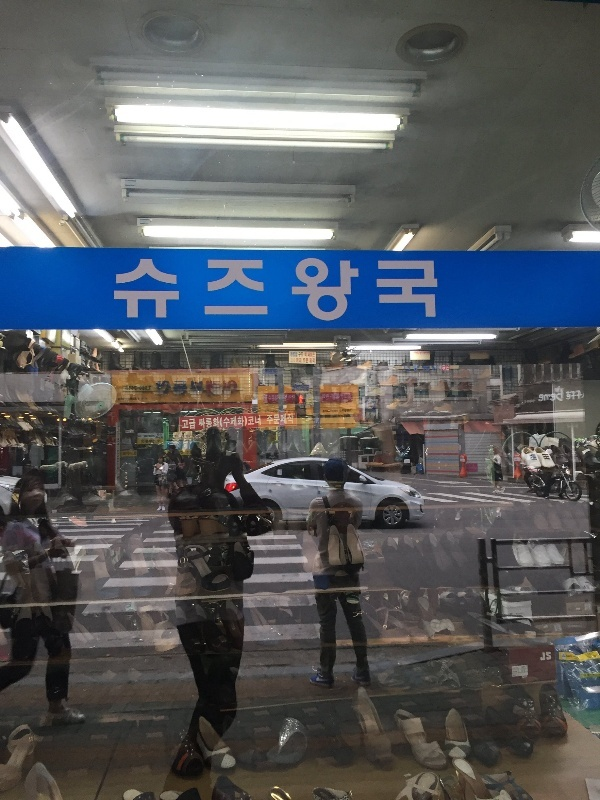text: (113, 255, 128, 325), (129, 255, 144, 325), (145, 255, 160, 325), (161, 255, 176, 325), (177, 255, 192, 325), (193, 255, 208, 325), (209, 255, 224, 325), (225, 255, 240, 325), (241, 255, 256, 325), (257, 255, 272, 325), (273, 255, 288, 325), (289, 255, 304, 325), (305, 255, 320, 325), (321, 255, 336, 325), (337, 255, 352, 325), (353, 255, 368, 325), (369, 255, 384, 325), (385, 255, 400, 325), (401, 255, 416, 325), (417, 255, 432, 325), (433, 255, 442, 325), (161, 379, 176, 399), (177, 379, 192, 399), (193, 379, 208, 399), (209, 379, 224, 399), (225, 379, 238, 399), (369, 398, 379, 422), (545, 387, 560, 403), (225, 415, 240, 429), (273, 412, 288, 426), (513, 666, 528, 677), (209, 416, 220, 430), (337, 393, 353, 402), (321, 393, 336, 402), (417, 364, 432, 373), (199, 416, 208, 430), (182, 418, 192, 430), (566, 390, 576, 401), (305, 352, 320, 359), (248, 414, 256, 427), (155, 379, 160, 399), (241, 415, 248, 429), (538, 387, 544, 403), (403, 365, 416, 372), (129, 385, 144, 391), (264, 394, 272, 405), (577, 390, 585, 401), (369, 370, 374, 387), (289, 412, 295, 426), (145, 439, 161, 444), (566, 653, 576, 661), (545, 651, 552, 662), (337, 409, 352, 414), (267, 412, 272, 426), (290, 352, 304, 357), (293, 385, 304, 391), (257, 414, 262, 427), (291, 358, 304, 363), (323, 409, 336, 414), (561, 387, 565, 403), (433, 364, 440, 373), (585, 651, 592, 660), (305, 358, 315, 364), (129, 397, 144, 401), (220, 415, 224, 429), (289, 394, 296, 402), (593, 651, 599, 660), (273, 395, 279, 403), (366, 398, 368, 422), (442, 364, 448, 372), (263, 370, 272, 375), (540, 651, 544, 662), (297, 358, 304, 364), (145, 385, 152, 391), (118, 397, 128, 401), (129, 451, 137, 456), (577, 653, 582, 661), (193, 418, 196, 430), (145, 435, 156, 438), (284, 394, 288, 402), (268, 395, 272, 403), (122, 451, 128, 456), (137, 434, 144, 438), (413, 364, 416, 373), (299, 352, 304, 357), (273, 370, 278, 375), (305, 385, 309, 391), (125, 385, 128, 391), (141, 439, 144, 444), (157, 434, 160, 439), (145, 397, 148, 401), (161, 434, 163, 439), (449, 364, 450, 372), (303, 358, 304, 364)
